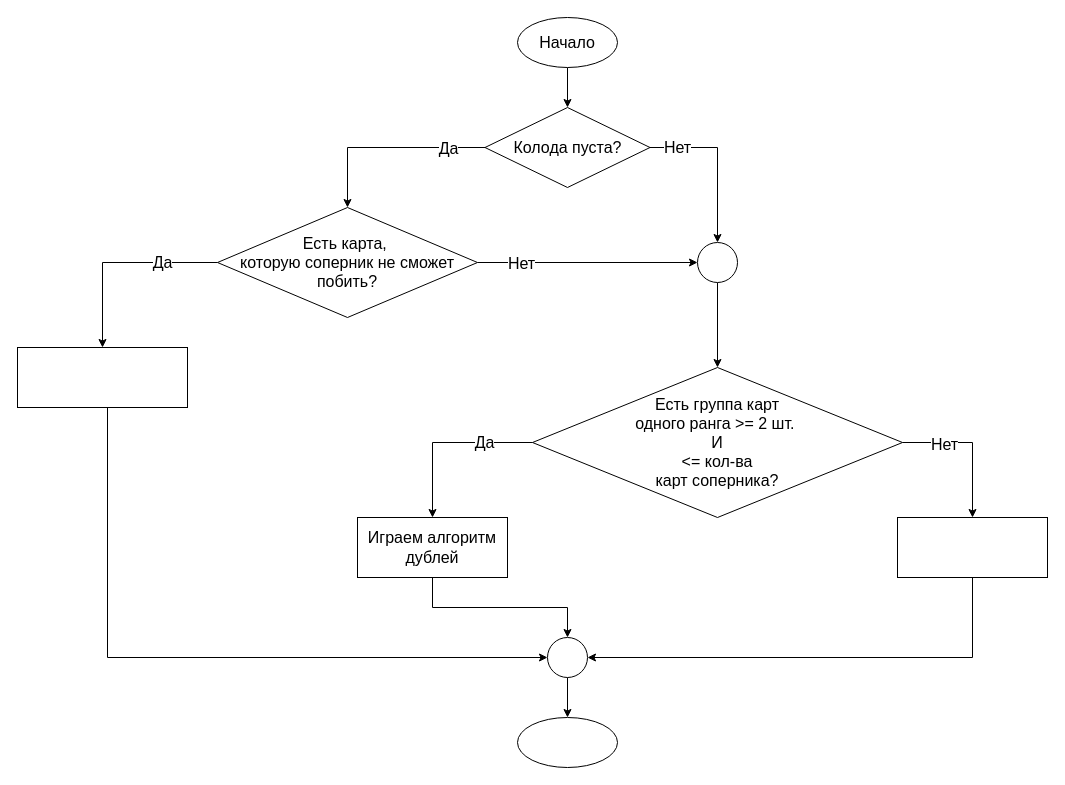
Some shapes in this 1065 by 785 pixel diagram are drawn without their labels. The box of each missing label's shape, as (x1, y1, x2, y2) in pixels:
Играем алгоритм непобиваемой карты: (16, 346, 188, 408)
Конец: (516, 716, 618, 768)
Ходим минимальной картой: (896, 516, 1048, 578)
